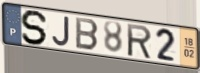2: (154, 27, 179, 65)
8: (102, 20, 124, 56)
B: (74, 16, 100, 53)
J: (51, 15, 72, 48)
R: (125, 22, 153, 61)
S: (19, 9, 50, 46)
